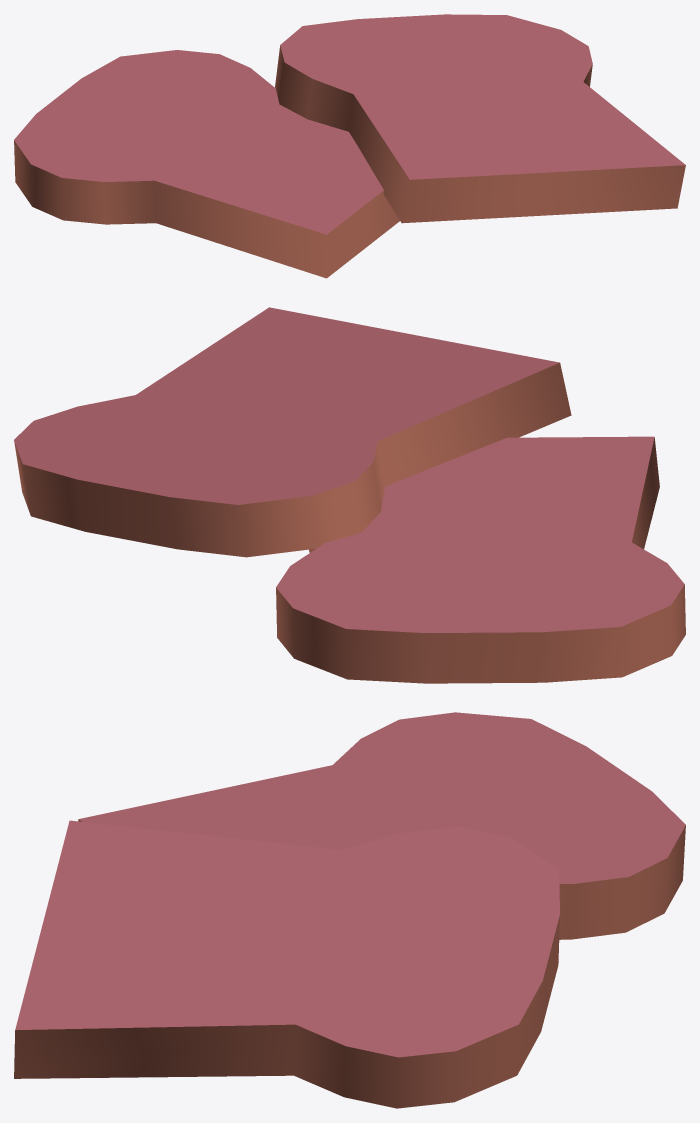
File: SM_Bread_Slice_Double_01.fbx
The picture shows the model from 3 angles, top to bottom: view 1: azimuth 30°, elevation 25°; view 2: azimuth 150°, elevation 25°; view 3: azimuth 270°, elevation 25°; orthographic projection. The views are drawn at different scales.
Parts seen in each view (by area): view 1: SM_Bread_Slice_Double_01; view 2: SM_Bread_Slice_Double_01; view 3: SM_Bread_Slice_Double_01.
Part boxes in pixels (x1=…): SM_Bread_Slice_Double_01: x1=14, y1=14, x2=685, y2=278; SM_Bread_Slice_Double_01: x1=14, y1=307, x2=685, y2=683; SM_Bread_Slice_Double_01: x1=14, y1=712, x2=685, y2=1108.
Size of the model in its own units: 20.36 by 3.09 by 16.57.
